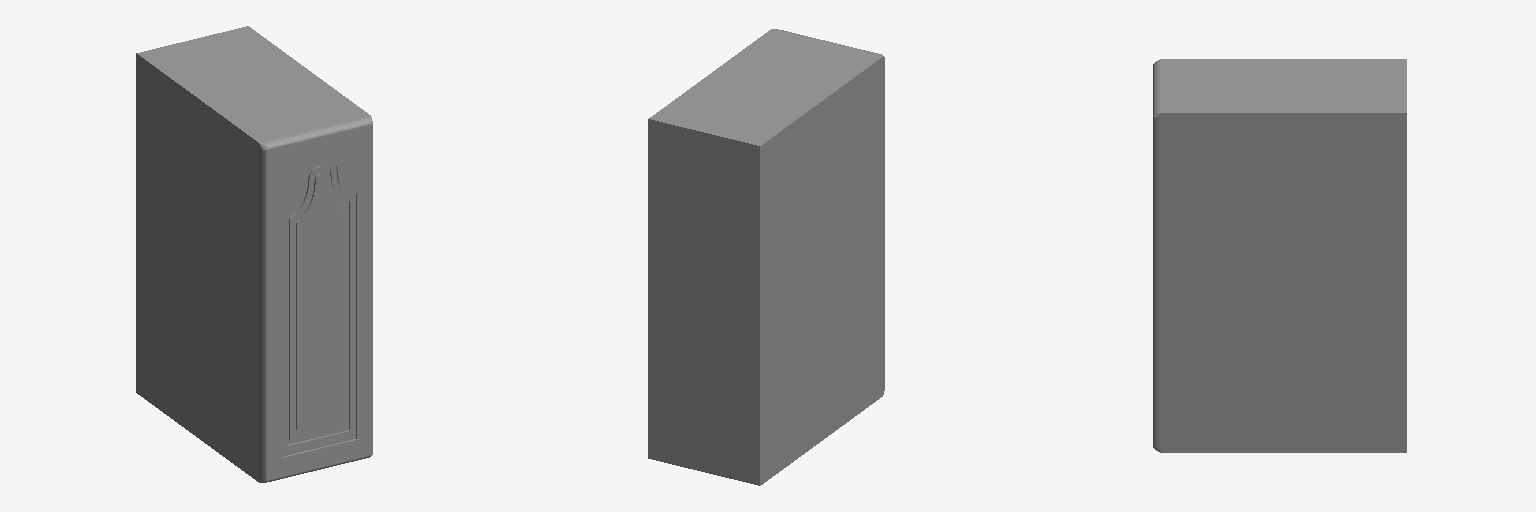
Rendered from single-base-unit-300.obj.
3 renders of one model, left to right at view 1: azimuth 30°, elevation 25°; view 2: azimuth 150°, elevation 25°; view 3: azimuth 270°, elevation 25°, orthographic.
Visible parts, largest first — view 1: Cube.002_Cube.004, Cube.003_Cube.008, Cube_Cube.002, Cube.001_Cube.003; view 2: Cube_Cube.002, Cube.002_Cube.004, Cube.001_Cube.003, Cube.003_Cube.008; view 3: Cube.001_Cube.003, Cube_Cube.002, Cube.003_Cube.008, Cube.002_Cube.004.
Part boxes in pixels (left/top/right/bottom): Cube.002_Cube.004: left=136, top=52, right=263, bottom=481; Cube.003_Cube.008: left=259, top=116, right=372, bottom=482; Cube_Cube.002: left=143, top=27, right=364, bottom=141; Cube.001_Cube.003: left=243, top=26, right=370, bottom=116; Cube_Cube.002: left=654, top=31, right=876, bottom=484; Cube.002_Cube.004: left=755, top=55, right=882, bottom=485; Cube.001_Cube.003: left=648, top=29, right=776, bottom=459; Cube.003_Cube.008: left=773, top=29, right=884, bottom=394; Cube.001_Cube.003: left=1162, top=111, right=1406, bottom=452; Cube_Cube.002: left=1162, top=62, right=1406, bottom=110; Cube.003_Cube.008: left=1153, top=59, right=1161, bottom=452; Cube.002_Cube.004: left=1162, top=59, right=1406, bottom=61.
Bounding box in the file's own units: 60 × 174 × 118.